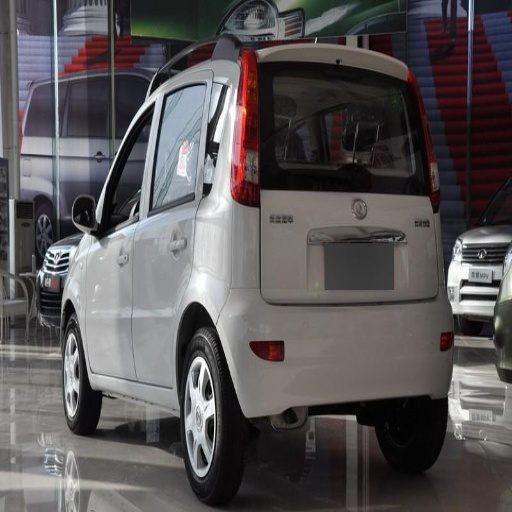back_bumper: (228, 309, 314, 418), (345, 305, 450, 391)
back_glass: (273, 65, 416, 178)
back_left_door: (134, 103, 202, 387)
tailgate: (371, 267, 417, 302)
trunk: (258, 157, 432, 401)
